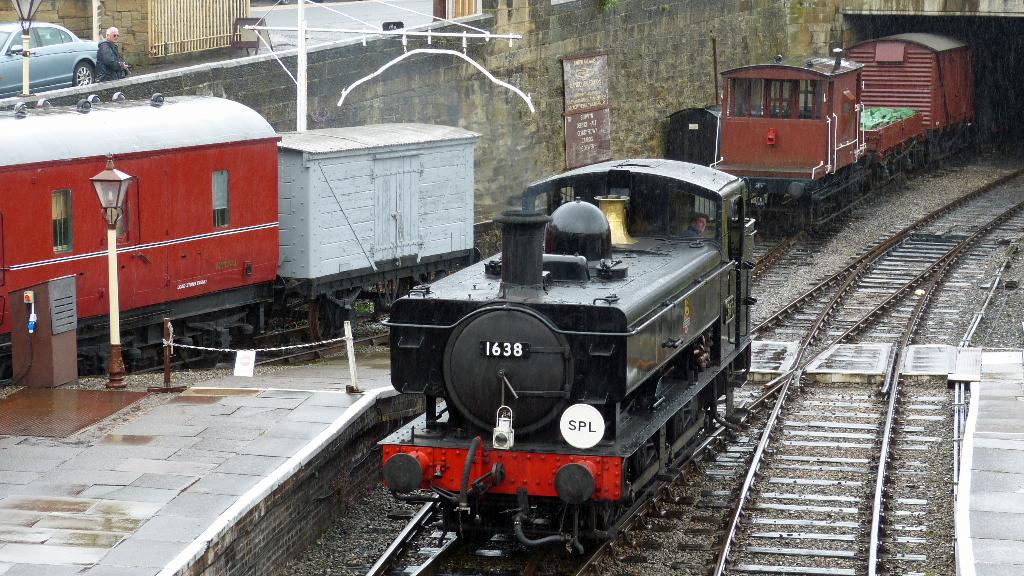Car: (3, 11, 126, 86)
